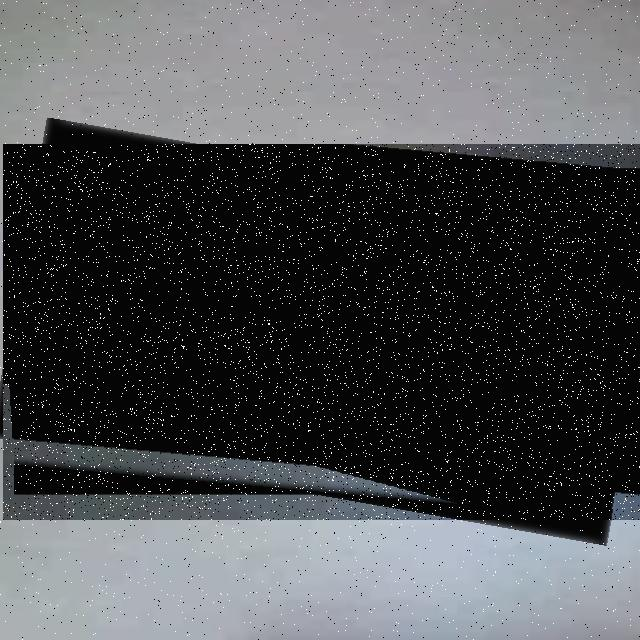lima puluh ribu rupiah: (3, 144, 640, 520)
